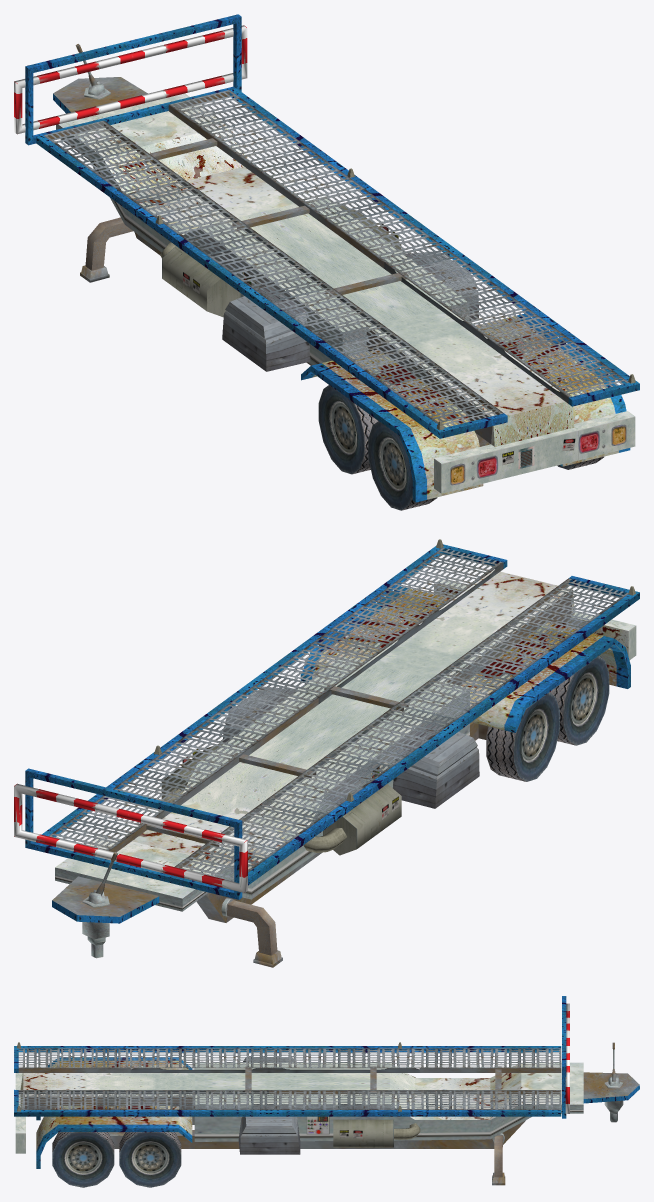
The model's file is Model_Trucks_Trailer.fbx.
3 views of the same model, one above another, from view 1: azimuth 30°, elevation 25°; view 2: azimuth 150°, elevation 25°; view 3: azimuth 270°, elevation 25° (orthographic). The views are drawn at different scales.
Parts seen in each view (by area): view 1: Civ_Truck_Trailer; view 2: Civ_Truck_Trailer; view 3: Civ_Truck_Trailer.
Part boxes in pixels (x1=…): Civ_Truck_Trailer: x1=14, y1=14, x2=639, y2=510; Civ_Truck_Trailer: x1=14, y1=539, x2=639, y2=967; Civ_Truck_Trailer: x1=14, y1=996, x2=639, y2=1187.
Size of the model in its own units: 340 by 258 by 1182.
